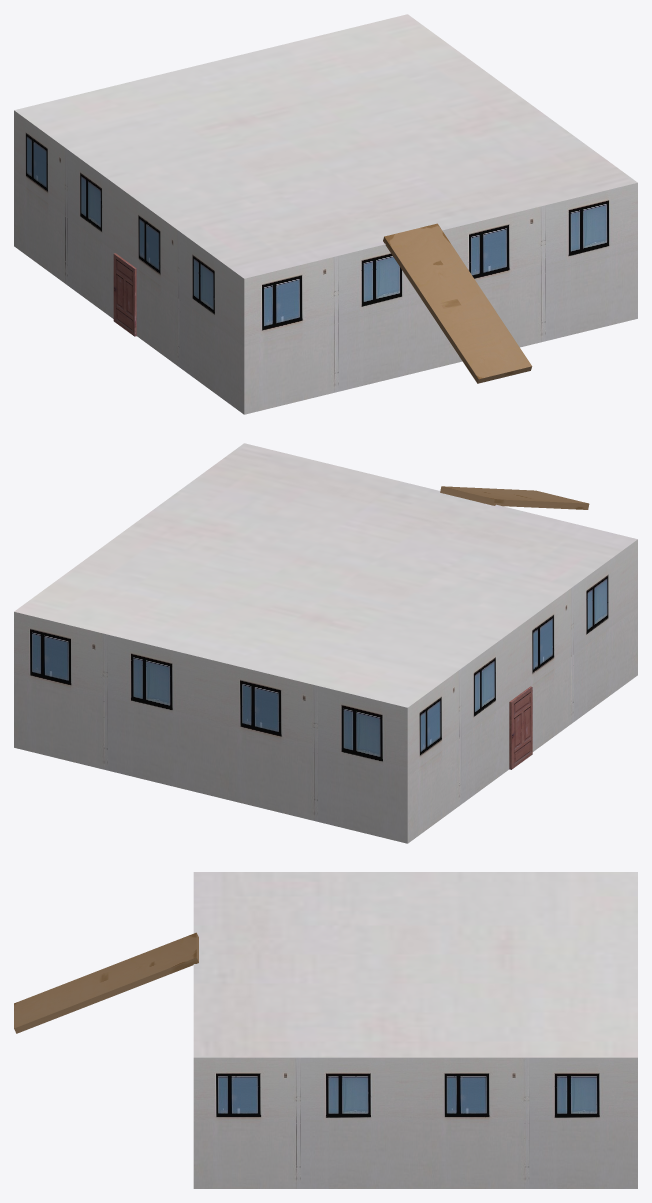
Rendered from house.glb.
3 renders of one model, top to bottom at view 1: azimuth 30°, elevation 25°; view 2: azimuth 150°, elevation 25°; view 3: azimuth 270°, elevation 25°, orthographic. The views are drawn at different scales.
Parts seen in each view (by area): view 1: House, plywood, Door; view 2: House, plywood, Door; view 3: House, plywood.
Boxes of the visible parts, x1=… form: House: x1=14, y1=14, x2=637, y2=414; plywood: x1=383, y1=223, x2=532, y2=383; Door: x1=113, y1=253, x2=136, y2=336; House: x1=14, y1=443, x2=637, y2=843; plywood: x1=440, y1=486, x2=589, y2=509; Door: x1=509, y1=686, x2=532, y2=769; House: x1=193, y1=872, x2=637, y2=1188; plywood: x1=14, y1=932, x2=198, y2=1033.
Bounding box in the file's own units: 15.14 × 5.21 × 21.42.
Materials: 3 (3 with a texture image).
